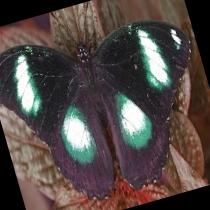butterfly: (0, 19, 191, 197)
